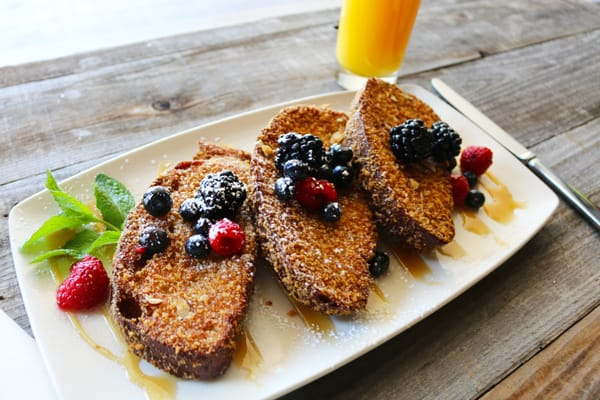sandwich: (429, 63, 600, 234)
